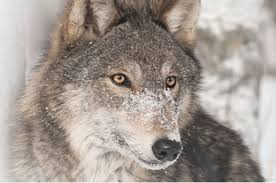wolf: (19, 1, 264, 180)
